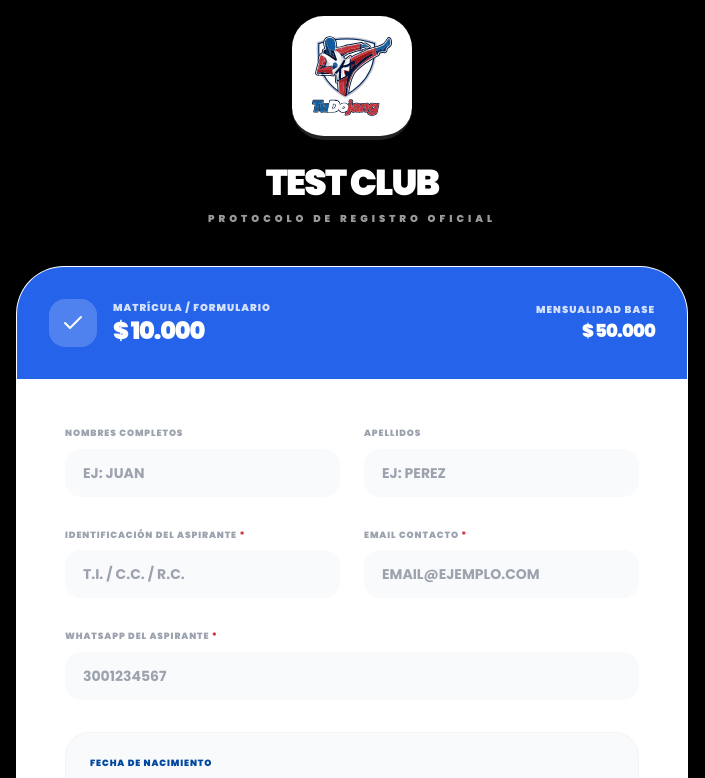
Test: CensoPublico › muestra una advertencia inline sin identidad al perder foco en correo cuando verificarDuplicadoAspirante marca correoExiste
The image size is (705, 778).
Type "dup@test.com" into the field with placeholder "EMAIL@EJEMPLO.COM" at [502, 574], box [364,550,639,598]
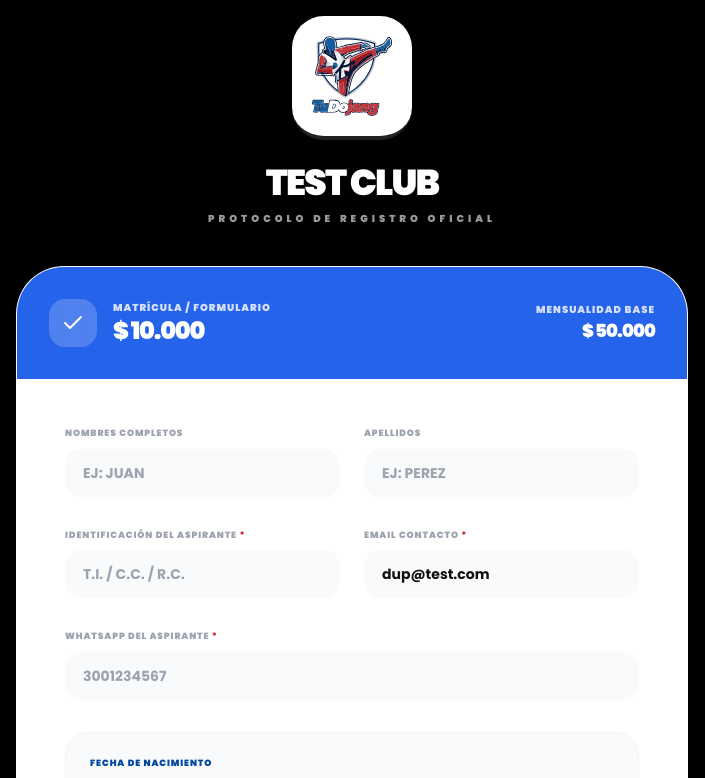
Leave the field with placeholder "EMAIL@EJEMPLO.COM", box [364,550,639,598]
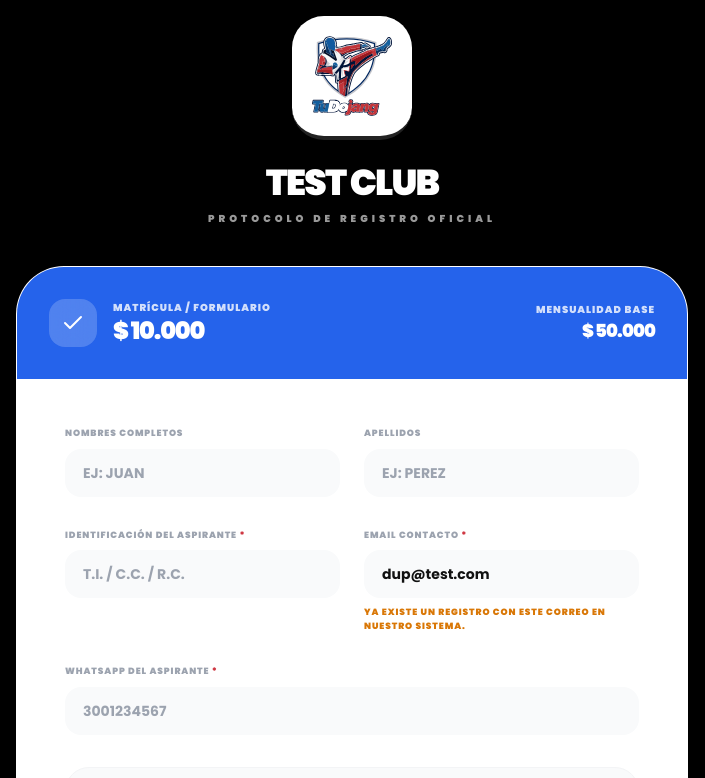
Now the text "Ya existe un registro con este correo en nuestro sistema." is shown, box [364,606,639,633]
